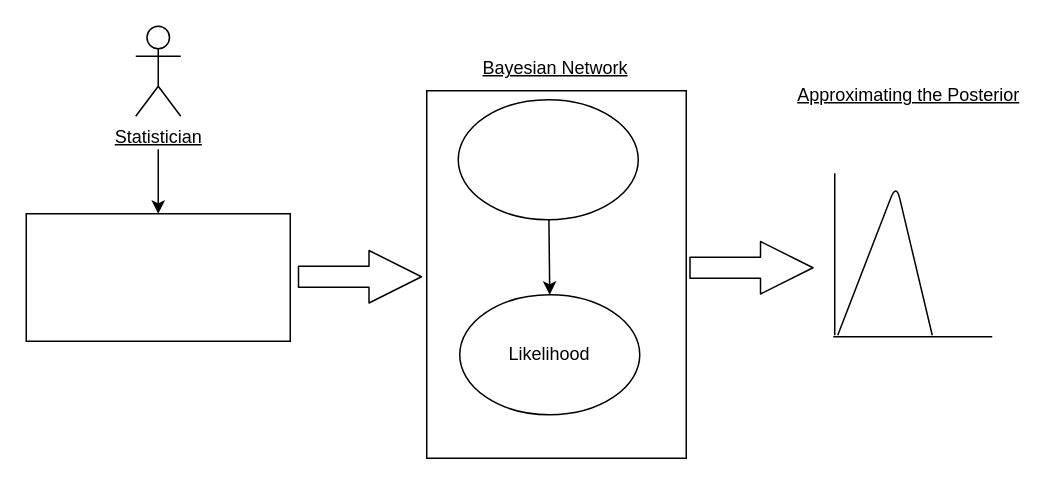
Image size: 1053x485. Some labels were removed from this diagram. The shapes that lost their labels are listed below. From the top down, each one's centre as x and y in pixels, then its label:
At (x=547, y=159): "Prior".
At (x=157, y=276): "Model and Parameters".
